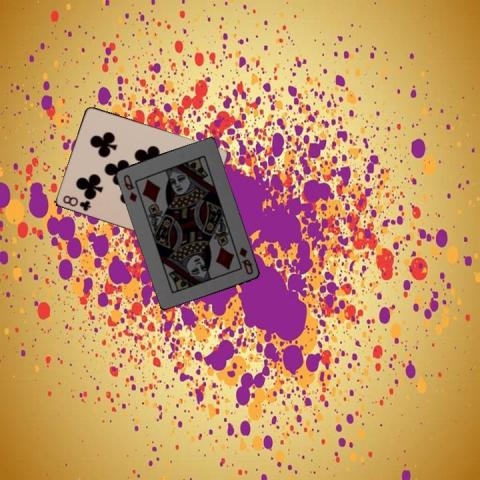8c: (60, 192, 93, 213)
Qd: (236, 244, 255, 276), (120, 172, 138, 204)
